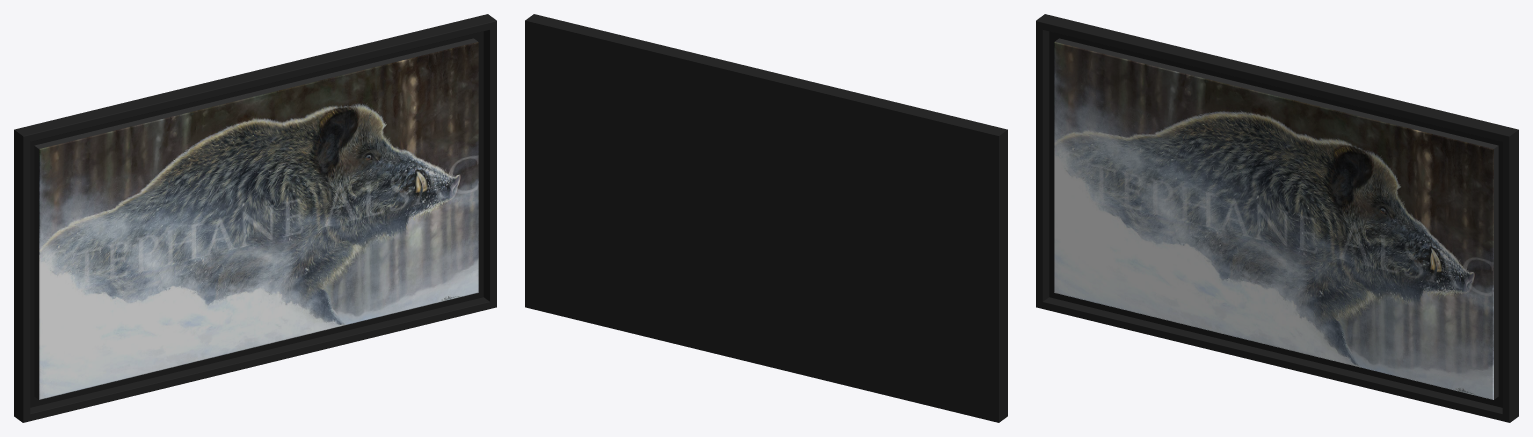
The model's file is bad-lieutenant-grand-f3da36b0.glb.
The picture shows the model from 3 angles, left to right: view 1: azimuth 30°, elevation 25°; view 2: azimuth 150°, elevation 25°; view 3: azimuth 330°, elevation 25°; orthographic projection.
Visible parts, largest first — view 1: Painting; view 2: Painting; view 3: Painting.
Boxes of the visible parts, x1=… form: Painting: x1=14, y1=14, x2=496, y2=422; Painting: x1=525, y1=14, x2=1007, y2=422; Painting: x1=1036, y1=14, x2=1518, y2=422.
Size of the model in its own units: 1.19 by 0.686 by 0.04.
Materials: 4 (2 with a texture image).
